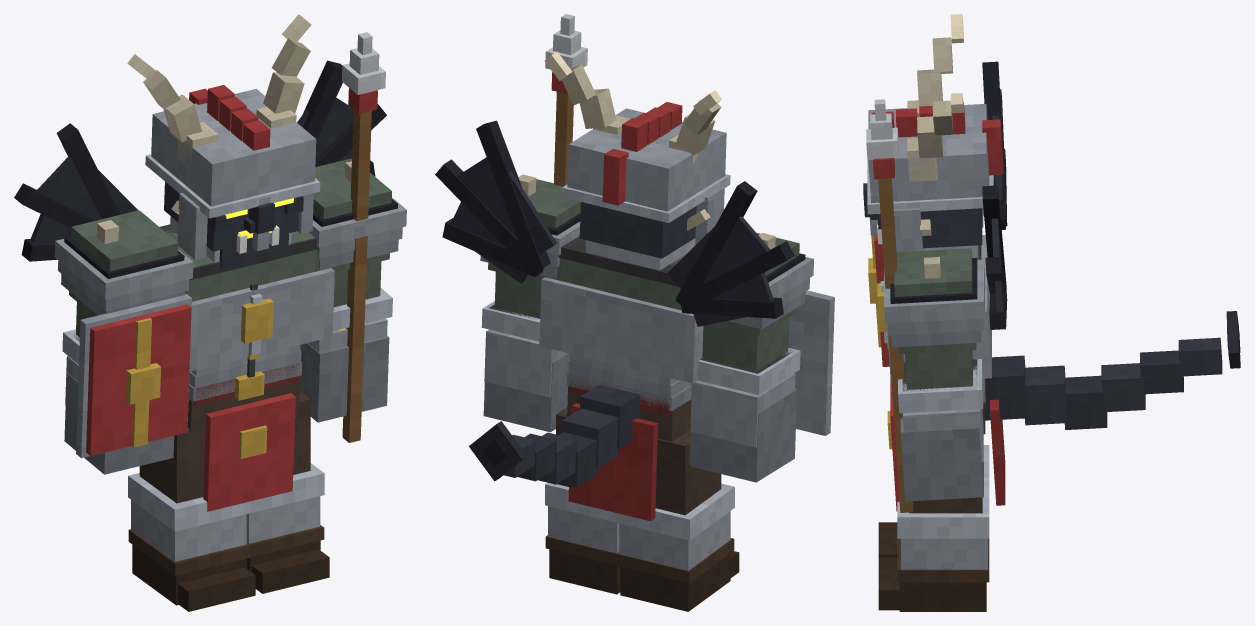
Rendered from demon_garde_v3.glb.
3 views of the same model, side by side, from view 1: azimuth 30°, elevation 25°; view 2: azimuth 150°, elevation 25°; view 3: azimuth 270°, elevation 25° (orthographic). The views are drawn at different scales.
Parts seen in each view (by area): view 1: Torso, ArmR, Head, LegR, ArmL, LegL, HandL; view 2: Torso, Head, ArmR, LegR, ArmL, LegL, HandL; view 3: ArmL, Torso, Head, LegL, HandL, ArmR, LegR.
Boxes of the visible parts, x1,y1,x2,y2 form: Torso: [14, 60, 386, 511]; ArmR: [54, 210, 193, 474]; Head: [127, 14, 320, 269]; LegR: [128, 427, 255, 611]; ArmL: [299, 158, 406, 422]; LegL: [246, 391, 329, 593]; HandL: [341, 32, 385, 442]; Torso: [435, 120, 794, 521]; Head: [544, 51, 730, 270]; ArmR: [689, 233, 834, 482]; LegR: [616, 431, 739, 611]; ArmL: [480, 174, 580, 432]; LegL: [545, 407, 620, 594]; HandL: [545, 14, 587, 186]; ArmL: [884, 248, 984, 501]; Torso: [877, 61, 1240, 511]; Head: [863, 14, 1003, 257]; LegL: [878, 480, 989, 611]; HandL: [866, 99, 913, 512]; ArmR: [868, 208, 983, 366]; LegR: [878, 445, 989, 557].
Bounding box in the file's own units: 1.58 × 2.21 × 1.44.
Materials: 46 (46 with a texture image).
